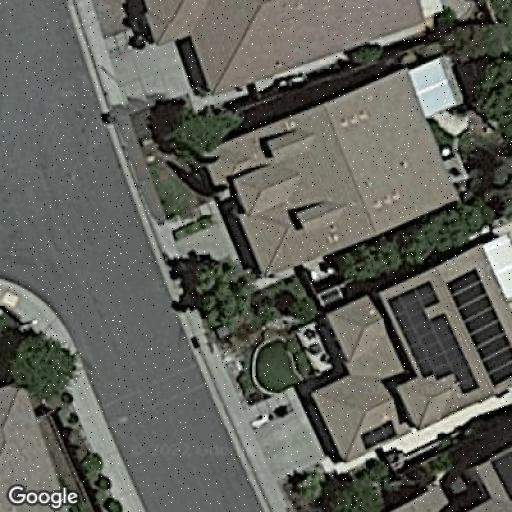solar-panel: (389, 284, 477, 396), (448, 266, 512, 388), (356, 418, 400, 450), (489, 452, 512, 502)
